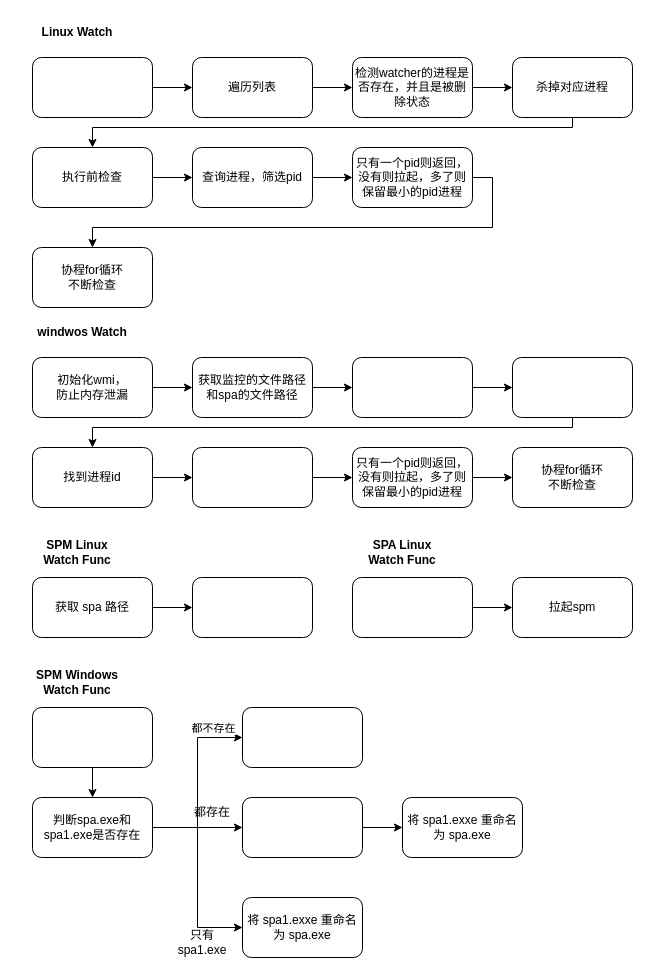
The diagram is 650 pixels wide and 975 high, and some of its shapes have lost their labels. Here are the shapes that lost their labels. From the top down, the centre of each, then its label:
At (92,87): "读取 /proc 下 的进程列表".
At (412,387): "只允许spm杀死spa，不允许spa杀死spm，否则会出现相互杀死又拉起的死循环".
At (572,387): "查询进程".
At (252,477): "杀死进程".
At (252,607): "拉起spa".
At (412,607): "获取spm路径".
At (92,737): "清理 spa 备份文件".
At (302,737): "返回错误".
At (302,827): "清理spa.exe".
